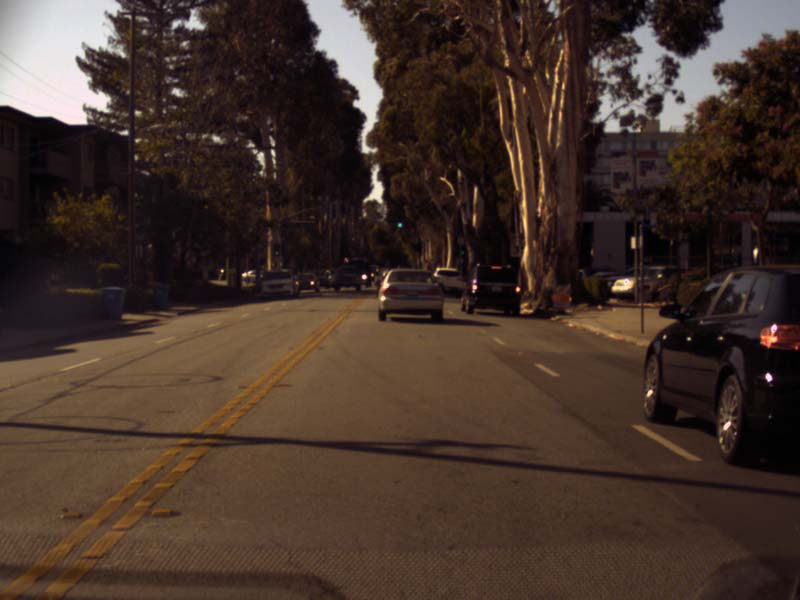Green: (395, 209, 403, 228)
